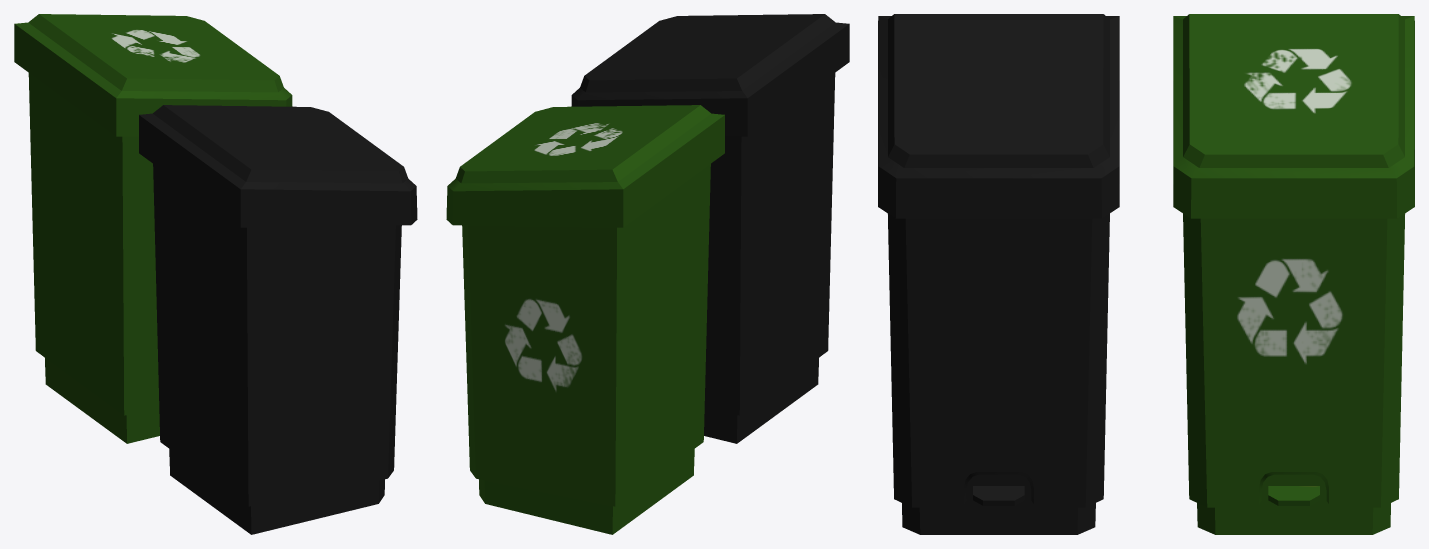
Rendered from LixeiraComReciclagem.fbx.
3 renders of one model, left to right at view 1: azimuth 30°, elevation 25°; view 2: azimuth 150°, elevation 25°; view 3: azimuth 270°, elevation 25°, orthographic. The views are drawn at different scales.
Parts seen in each view (by area): view 1: Cube; view 2: Cube; view 3: Cube.
Part boxes in pixels (x1,y1,x2,y2): Cube: (14, 14, 417, 534); Cube: (446, 14, 849, 534); Cube: (878, 14, 1414, 534).
Bounding box in the file's own units: 102 × 195 × 217.
